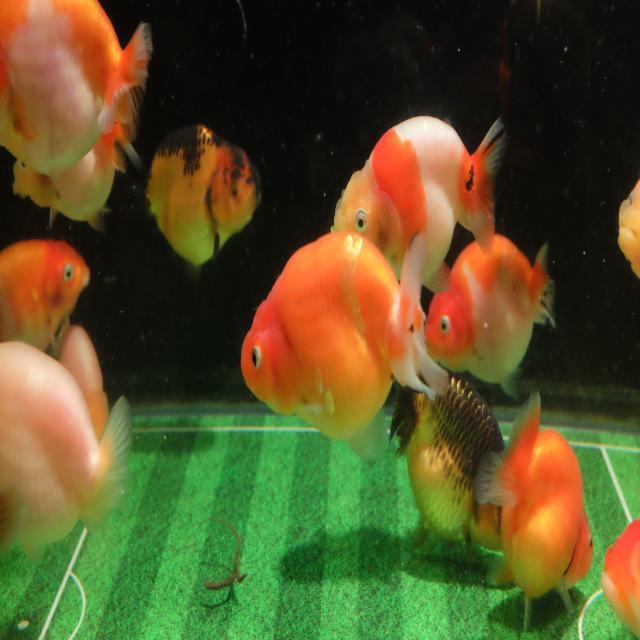Goldfish: (239, 227, 452, 466), (330, 113, 510, 295), (0, 339, 132, 578), (474, 391, 595, 632), (0, 0, 154, 180), (390, 370, 520, 552), (423, 228, 559, 398), (123, 119, 264, 275), (11, 111, 142, 235), (0, 238, 92, 356)
